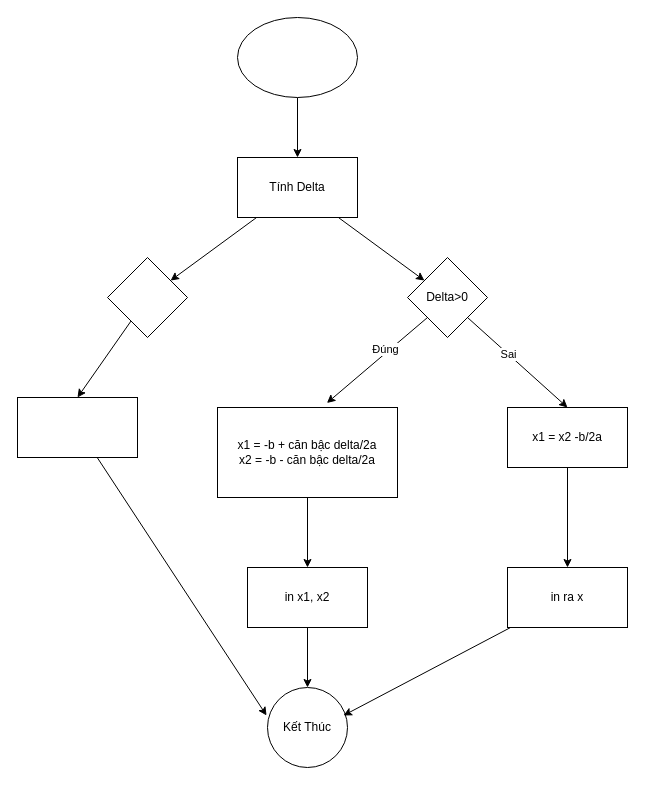
The diagram is 645 pixels wide and 785 high, and some of its shapes have lost their labels. The shapes that lost their labels are listed below. From the top down, each one's centre as x and y in pixels, then its label:
At (297,57): "Nhập A,B,C".
At (147,297): "Delta=0".
At (77,427): "Vô nghiệm".
